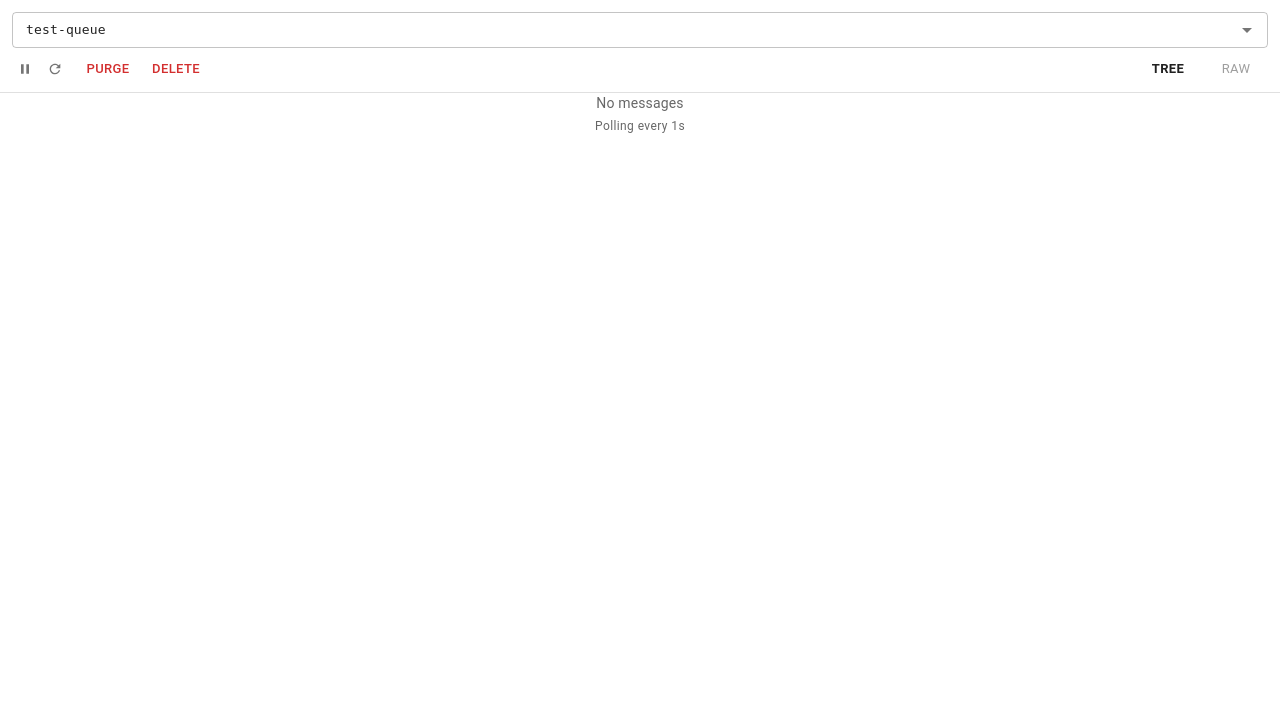
Test: <QueueColumn /> › shows delete queue confirmation dialog when Delete button is clicked
Click the button "Delete" at (176,69), box [144,54,208,84]
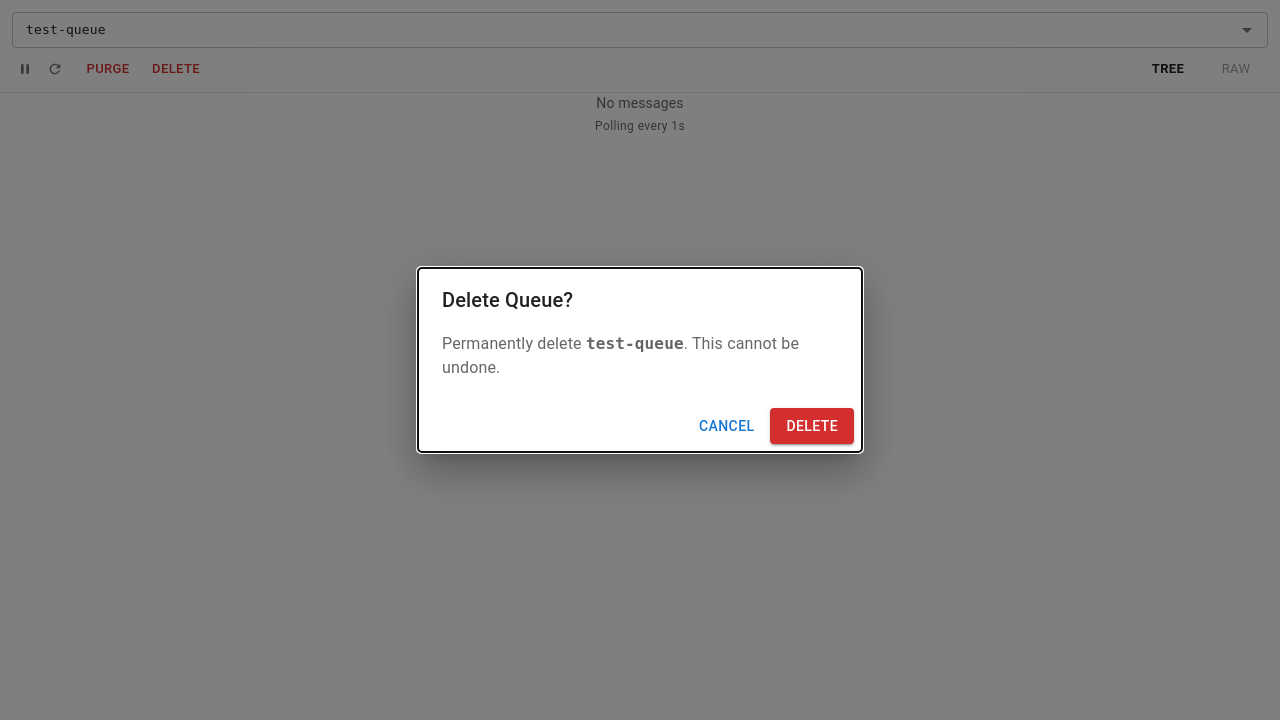
expect the heading "Delete Queue?" is shown: met, box [442,288,573,312]
